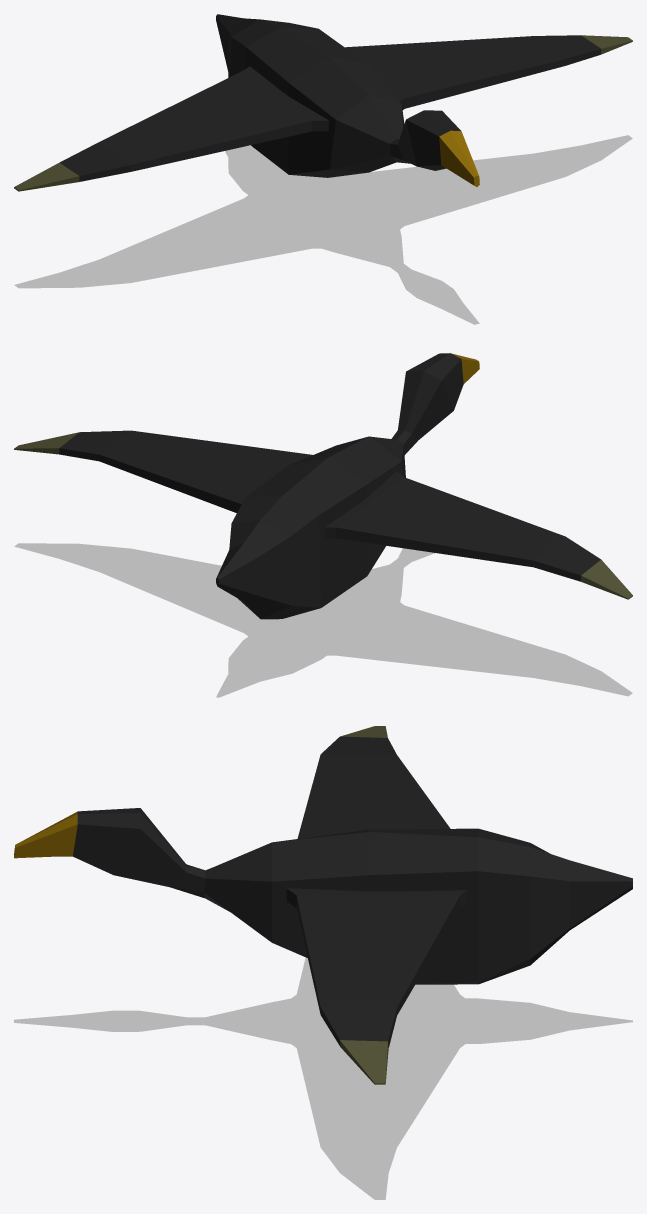
File: UglyDuck.fbx
3 views of the same model, one above another, from view 1: azimuth 30°, elevation 25°; view 2: azimuth 150°, elevation 25°; view 3: azimuth 270°, elevation 25° (orthographic). The views are drawn at different scales.
Visible parts, largest first — view 1: Shadow, Wings, Body; view 2: Shadow, Wings, Body; view 3: Body, Wings, Shadow.
Boxes of the visible parts, x1,y1,x2,y2 form: Shadow: [14, 135, 632, 324]; Wings: [14, 35, 632, 191]; Body: [216, 14, 479, 186]; Shadow: [14, 543, 632, 697]; Wings: [14, 430, 632, 599]; Body: [216, 353, 479, 619]; Body: [14, 808, 632, 984]; Wings: [286, 726, 466, 1084]; Shadow: [14, 957, 632, 1199].
Bounding box in the file's own units: 1072 × 292 × 785.
Materials: 2 (1 with a texture image).
